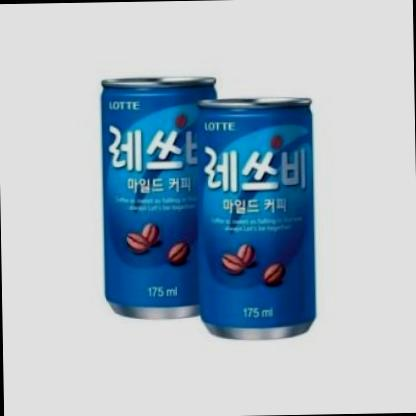alumunium_can: (190, 98, 322, 340)
